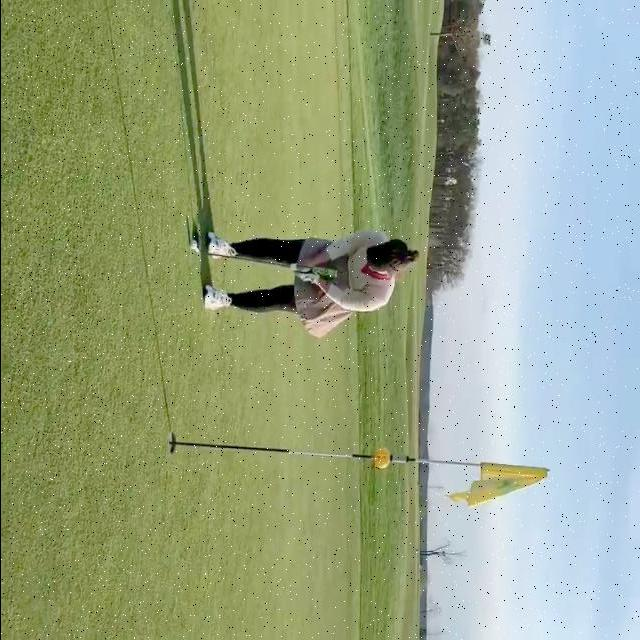golf ball: (188, 238, 197, 251)
golf club-handle: (190, 227, 338, 278)
golf club-head: (194, 231, 201, 255)
